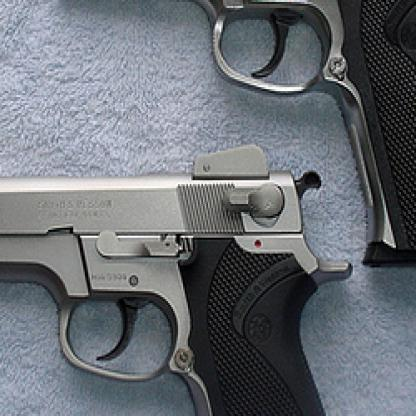gun: (41, 0, 415, 282), (0, 147, 366, 414)
